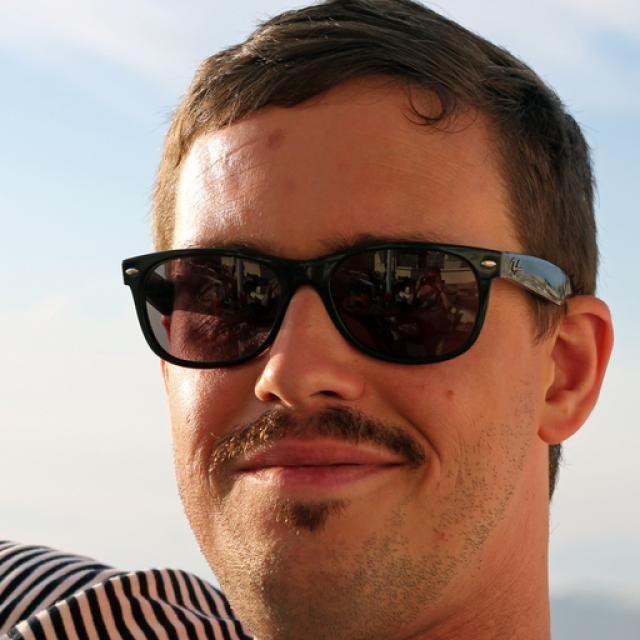content: (163, 115, 542, 620)
